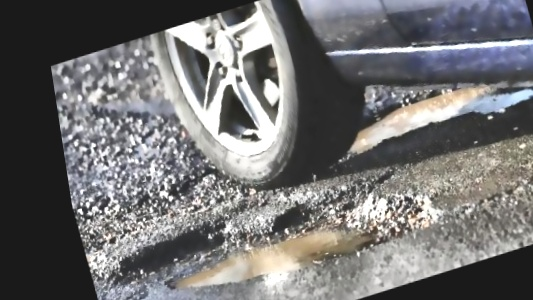pothole: (98, 152, 453, 300)
